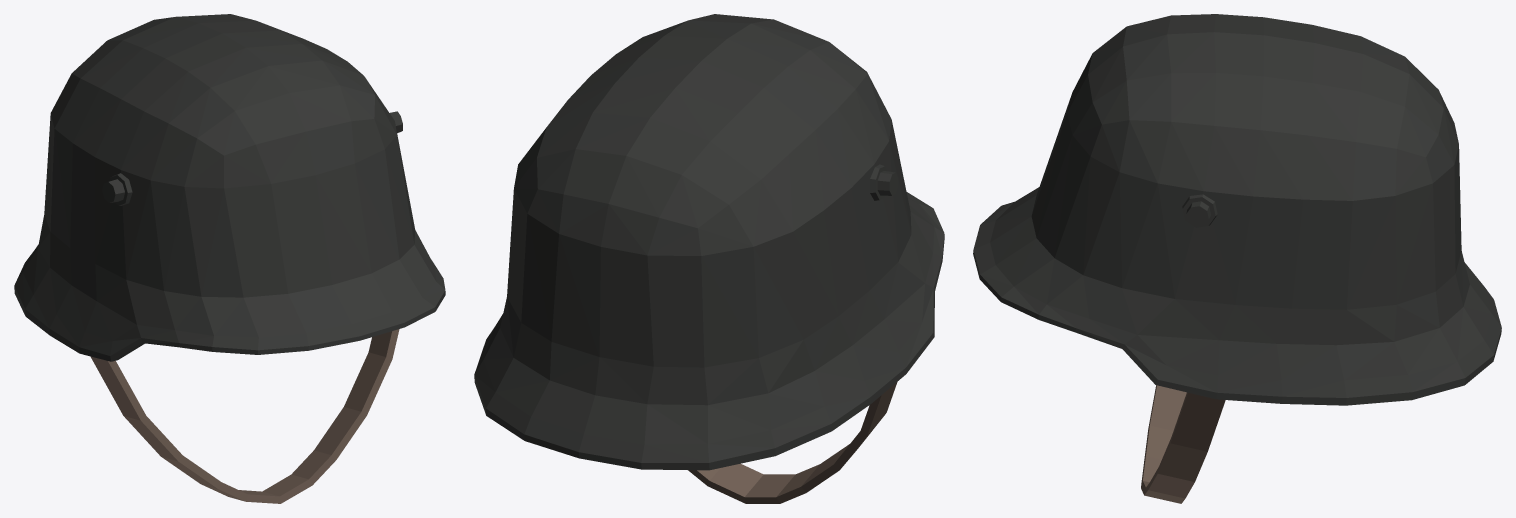
The model's file is Chr_Attach_Ger_Helmet_01.fbx.
3 renders of one model, left to right at view 1: azimuth 30°, elevation 25°; view 2: azimuth 150°, elevation 25°; view 3: azimuth 270°, elevation 25°, orthographic. The views are drawn at different scales.
Visible parts, largest first — view 1: Chr_Attach_Ger_Helmet_01_LOD0; view 2: Chr_Attach_Ger_Helmet_01_LOD0; view 3: Chr_Attach_Ger_Helmet_01_LOD0.
Part boxes in pixels (<box>): Chr_Attach_Ger_Helmet_01_LOD0: <box>14,14,445,503</box>; Chr_Attach_Ger_Helmet_01_LOD0: <box>474,14,944,503</box>; Chr_Attach_Ger_Helmet_01_LOD0: <box>973,14,1501,503</box>.
Size of what is drawn, in the model's own units: 22.4 by 28.39 by 29.3.
